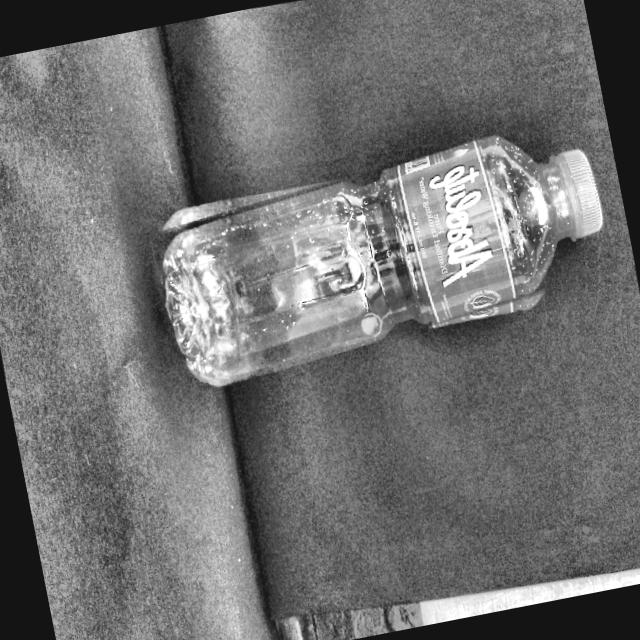Plastic-Bottle: (142, 108, 625, 394)
